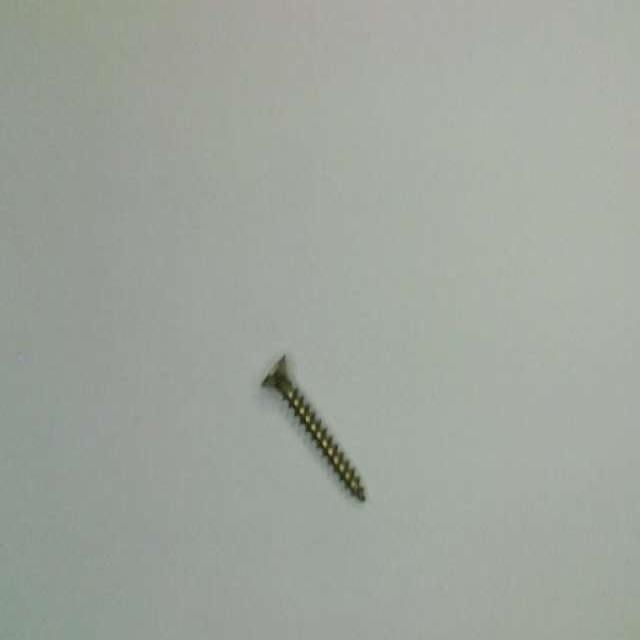Parafuso: (263, 356, 364, 500)
